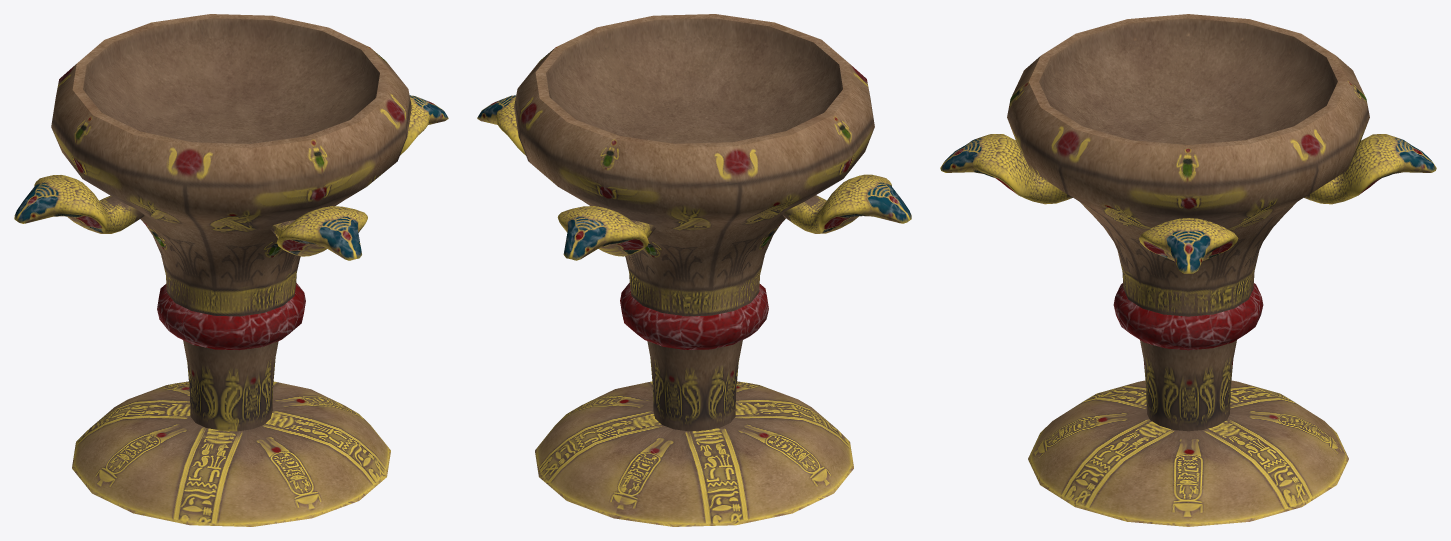
Rendered from egyptian_pedestal.glb.
3 renders of one model, left to right at view 1: azimuth 30°, elevation 25°; view 2: azimuth 150°, elevation 25°; view 3: azimuth 270°, elevation 25°, orthographic.
Parts seen in each view (by area): view 1: Object_2; view 2: Object_2; view 3: Object_2.
Boxes of the visible parts, x1=… form: Object_2: x1=14, y1=14, x2=448, y2=526; Object_2: x1=477, y1=14, x2=911, y2=526; Object_2: x1=940, y1=14, x2=1436, y2=526.
Size of the model in its own units: 105 by 88.26 by 105.
Materials: 1 (1 with a texture image).
